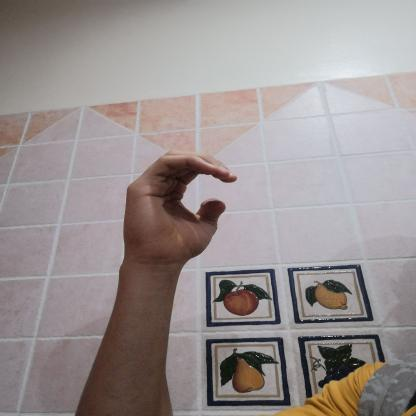JEEM: (105, 146, 248, 272)
